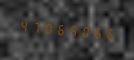five: (65, 19, 76, 40)
four: (17, 15, 28, 36)
seven: (29, 16, 40, 37)
six: (53, 18, 64, 39), (89, 21, 100, 42), (101, 23, 112, 43)
zero: (41, 17, 52, 38), (77, 20, 88, 41)
